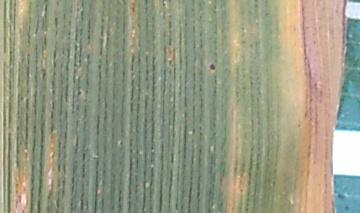tarspot: (208, 61, 218, 73)
